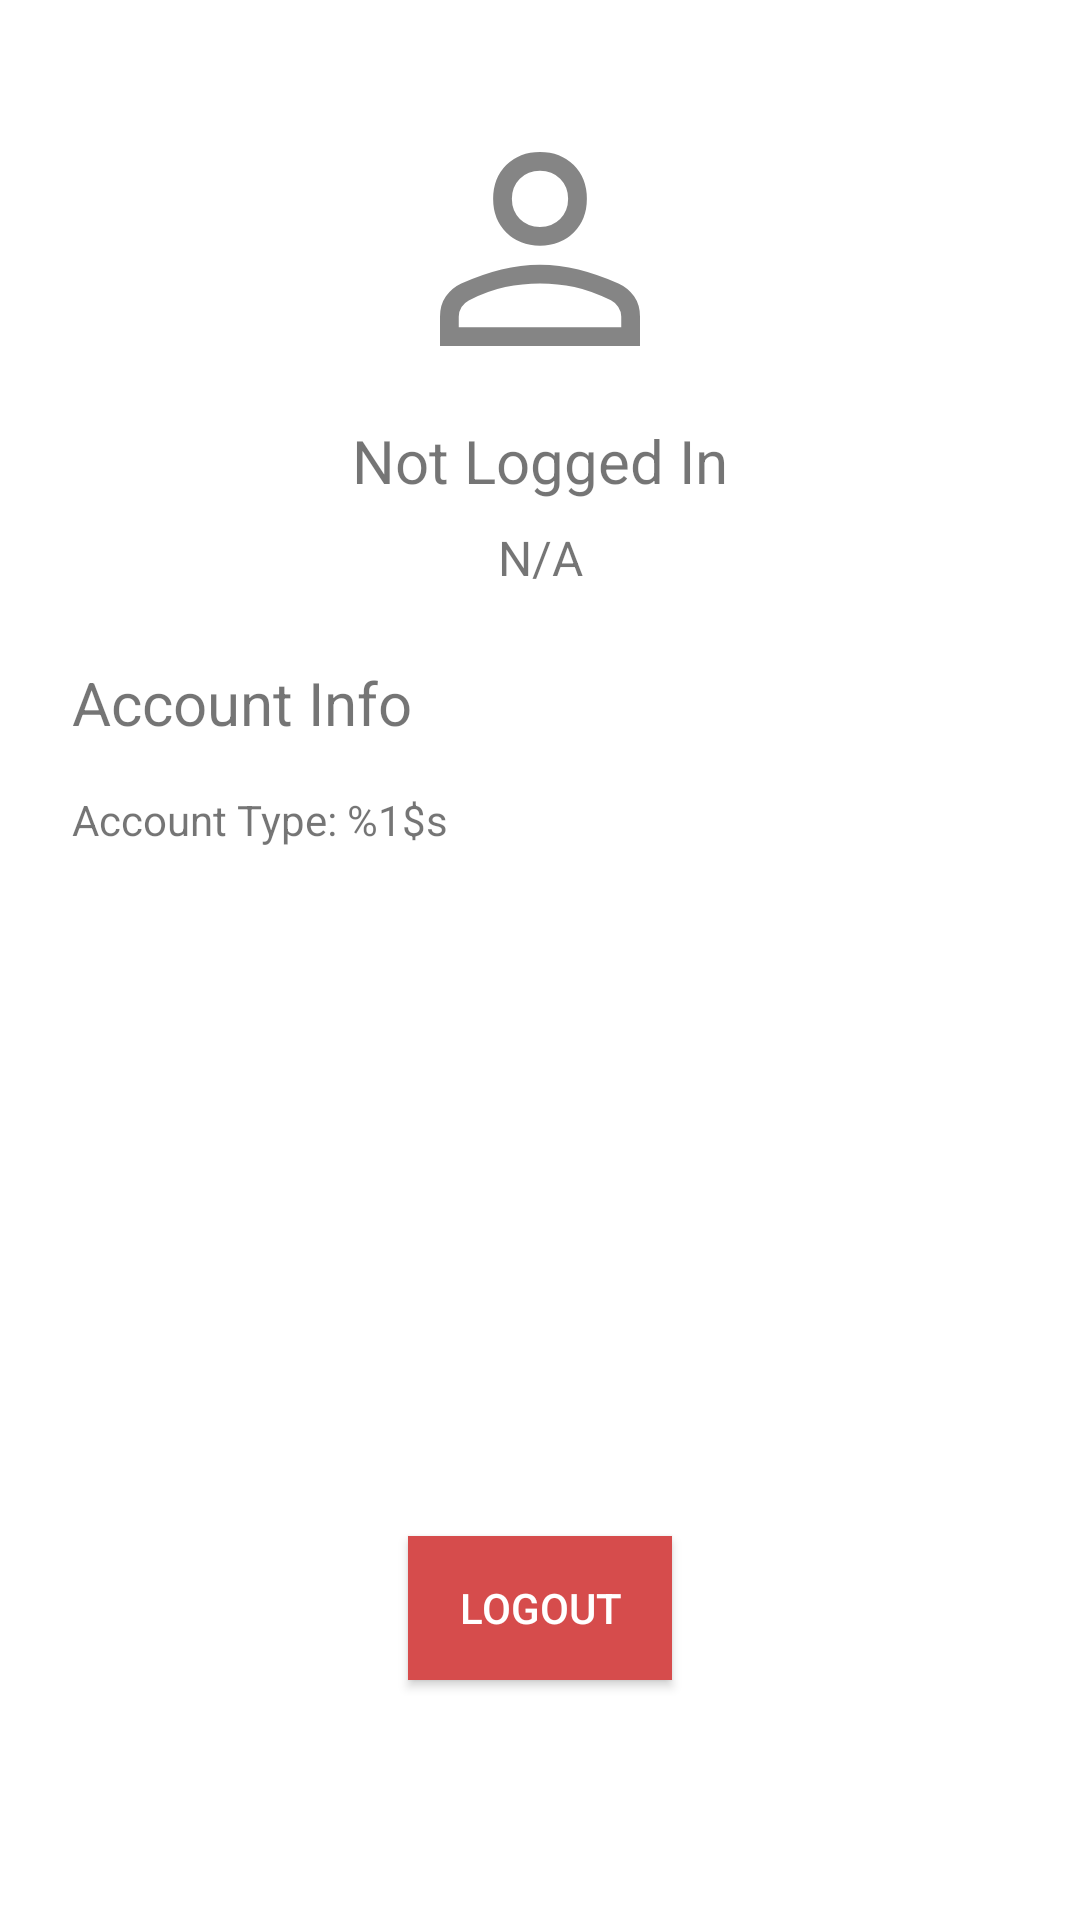

Where icons sit on this 1080x1920 app screen, as [x1,y1,x2,y2]:
account: [440,152,640,346]
